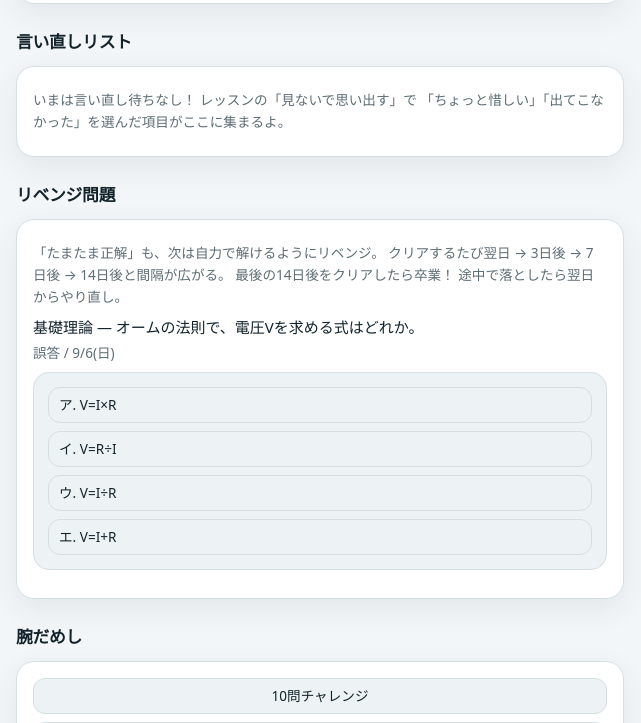
Scenario: リベンジ問題(学科タブ) › アプリ内で落とした問題は、その場で解き直せる。自己申告ボタンは出さない
This screenshot has width=641, height=723.
(page scrolled)
Expected: the text "基礎理論 — オームの法則で、電圧Vを求める式はどれか。誤答 / 9/6(日)" is shown, [33, 317, 424, 362]
Click the button "ア. V=I×R" at [98, 405], box [48, 387, 592, 423]
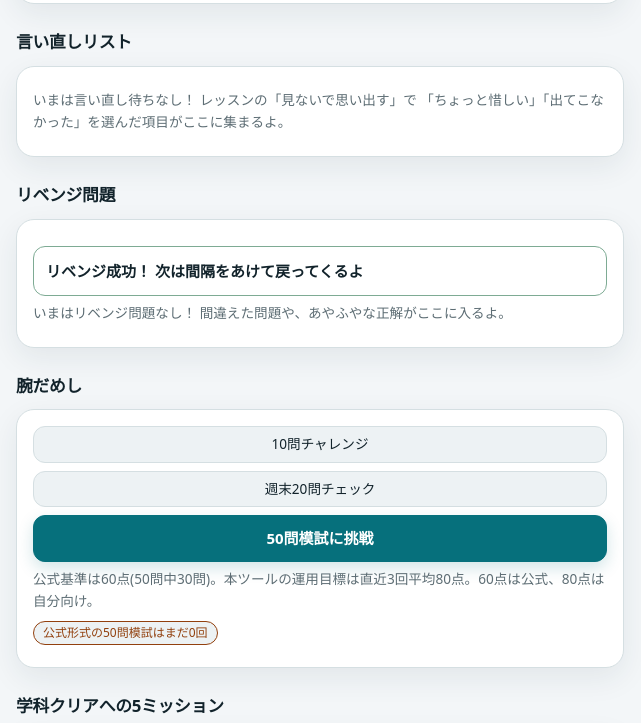
Result: the text "リベンジ成功！ 次は間隔をあけて戻ってくるよ" is shown at [46, 261, 363, 281]
